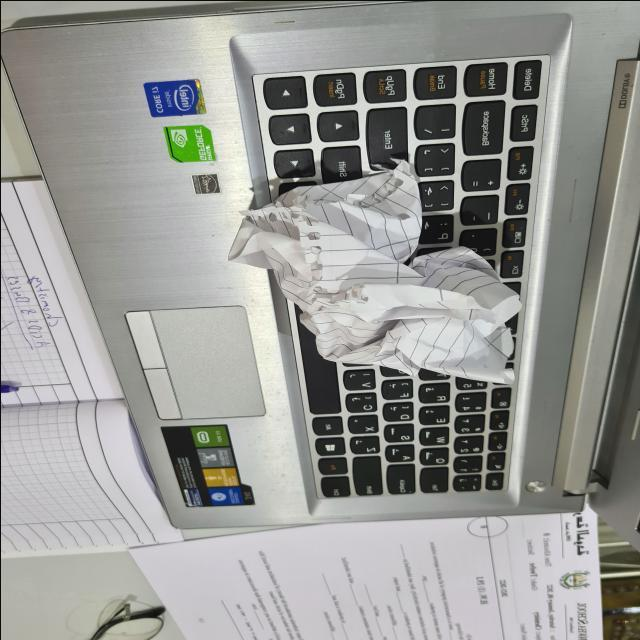Paper: (205, 161, 542, 432)
